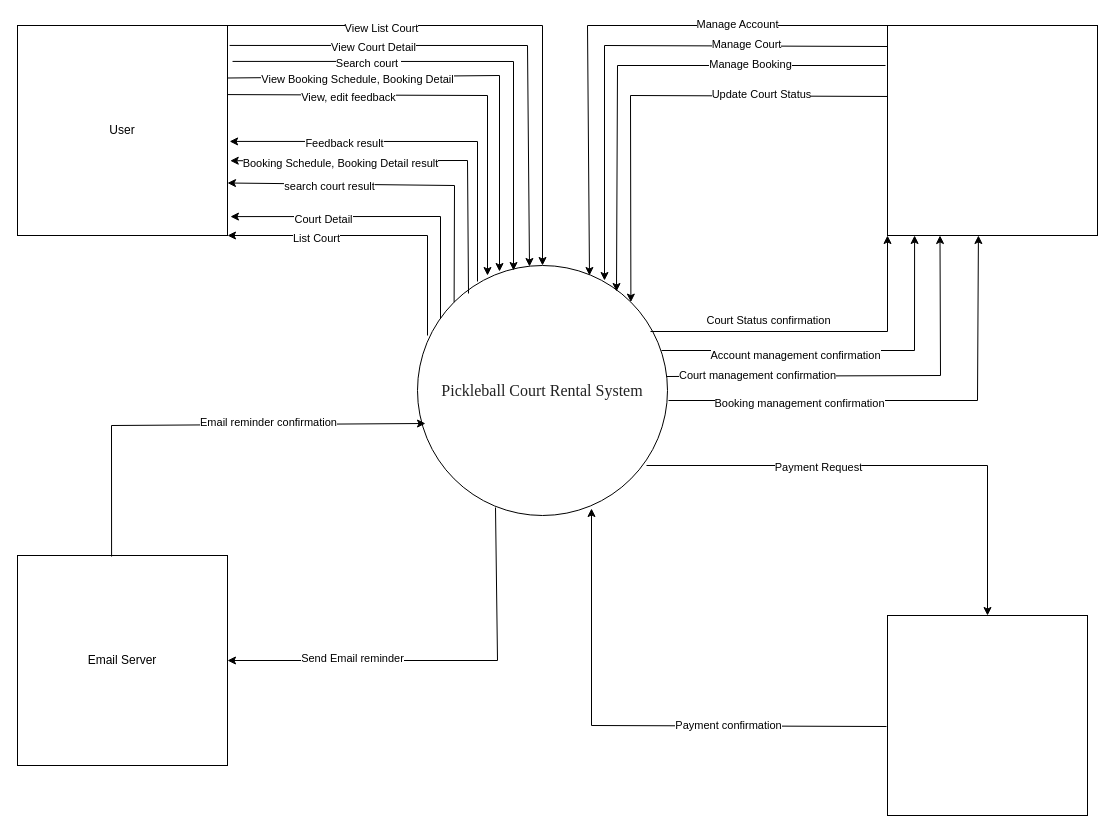
The diagram is 1115 pixels wide and 833 high, and some of its shapes have lost their labels. Here are the shapes that lost their labels. From the top down, the box of each, then its label:
(886, 24, 1098, 236): Admin
(886, 614, 1088, 816): Payment System
